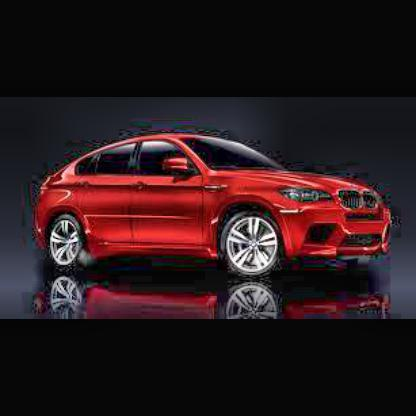BMW X6 SUV 2012: (39, 135, 389, 286)
